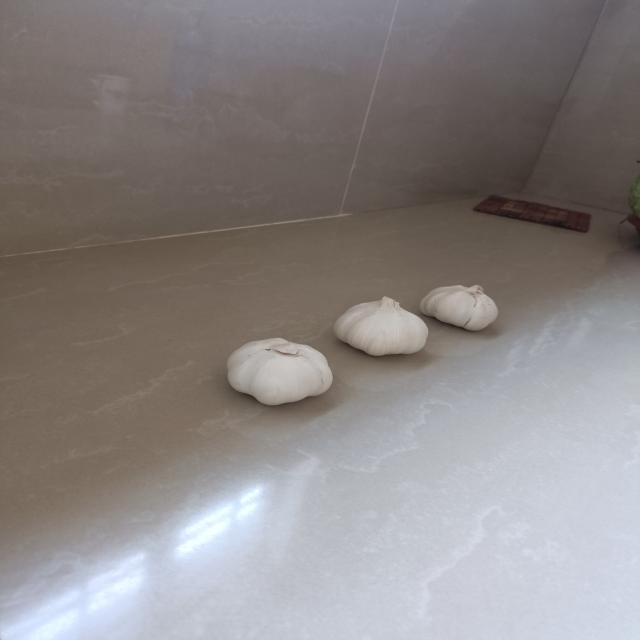garlic: (225, 334, 334, 404), (330, 294, 430, 357), (418, 280, 501, 334)
